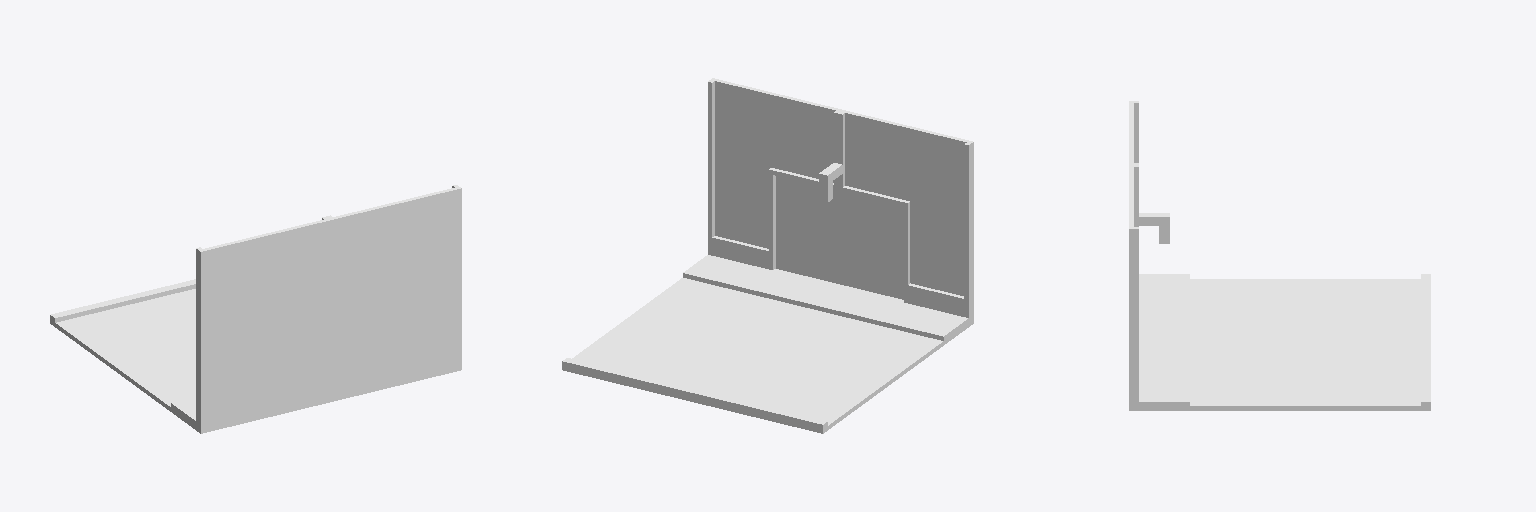
The model's file is Location2.obj.
3 renders of one model, left to right at view 1: azimuth 30°, elevation 25°; view 2: azimuth 150°, elevation 25°; view 3: azimuth 270°, elevation 25°, orthographic.
Visible parts, largest first — view 1: object 1; view 2: object 1; view 3: object 1.
Boxes of the visible parts, <box> form: object 1: <box>50,185,461,433</box>; object 1: <box>562,78,973,433</box>; object 1: <box>1129,101,1430,410</box>.
Size of the model in its own units: 6 by 4 by 6.